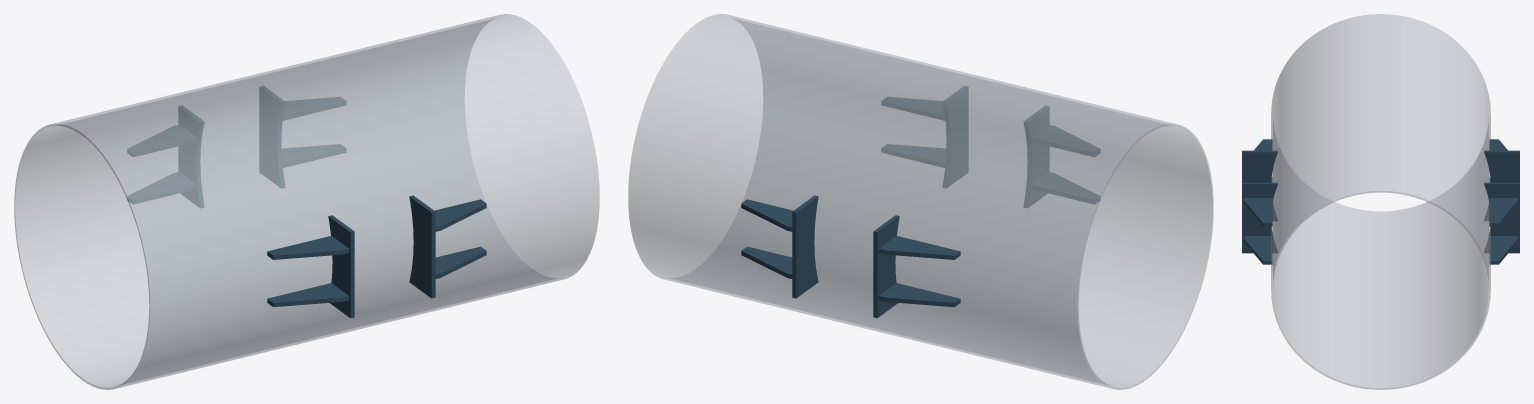
The model's file is TS-660.00.00-18-opora-dn920.glb.
3 views of the same model, side by side, from view 1: azimuth 30°, elevation 25°; view 2: azimuth 150°, elevation 25°; view 3: azimuth 270°, elevation 25° (orthographic). The views are drawn at different scales.
Parts seen in each view (by area): view 1: truba, upor_1, upor_7, upor_4, upor_10, upor_5, upor_6, upor_12, upor_11, upor_8, upor_3, upor_9 (+1 smaller); view 2: truba, upor_7, upor_1, upor_10, upor_4, upor_12, upor_11, upor_5, upor_6, upor_3, upor_2, upor_8 (+1 smaller); view 3: truba, upor_1, upor_7, upor_4, upor_10, upor_3, upor_8, upor_2, upor_9.
Boxes of the visible parts, x1,y1,x2,y2 form: truba: (14, 14, 599, 389); upor_1: (409, 195, 435, 298); upor_7: (259, 86, 285, 188); upor_4: (328, 215, 354, 318); upor_10: (178, 106, 203, 207); upor_5: (267, 235, 349, 259); upor_6: (267, 283, 349, 307); upor_12: (127, 125, 196, 156); upor_11: (127, 172, 196, 204); upor_8: (282, 144, 346, 167); upor_3: (435, 246, 486, 278); upor_9: (283, 97, 346, 120); truba: (628, 14, 1213, 389); upor_7: (792, 195, 818, 298); upor_1: (942, 86, 968, 188); upor_10: (873, 215, 899, 318); upor_4: (1024, 106, 1049, 207); upor_12: (878, 235, 960, 259); upor_11: (878, 283, 960, 307); upor_5: (1031, 125, 1100, 156); upor_6: (1031, 172, 1100, 204); upor_3: (881, 144, 945, 167); upor_2: (881, 97, 944, 120); upor_8: (741, 246, 792, 278); truba: (1271, 14, 1490, 389); upor_1: (1242, 182, 1277, 253); upor_7: (1484, 182, 1519, 253); upor_4: (1242, 150, 1277, 220); upor_10: (1484, 150, 1519, 220); upor_3: (1244, 236, 1272, 264); upor_8: (1489, 236, 1517, 264); upor_2: (1244, 198, 1272, 226); upor_9: (1489, 198, 1517, 226).
Bounding box in the file's own units: 1752 × 920 × 1163.
